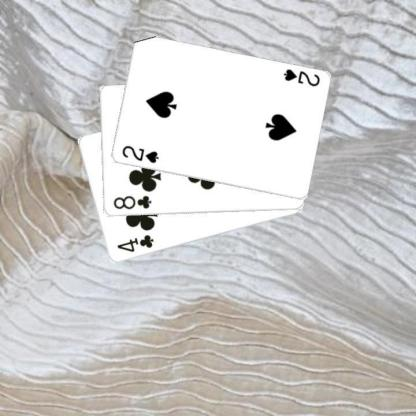2S: (119, 143, 160, 165), (280, 66, 321, 88)
4C: (114, 232, 155, 254)
8C: (110, 193, 152, 211)
